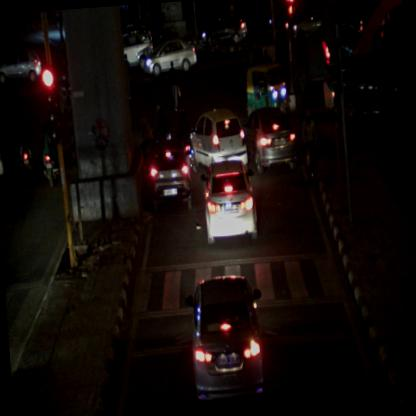car: (181, 272, 268, 412), (199, 158, 260, 246), (242, 105, 298, 177), (191, 109, 247, 172), (150, 138, 193, 212), (146, 37, 200, 79), (0, 46, 43, 85), (204, 16, 250, 48), (121, 29, 156, 68)
motorcycle: (38, 122, 57, 190)
